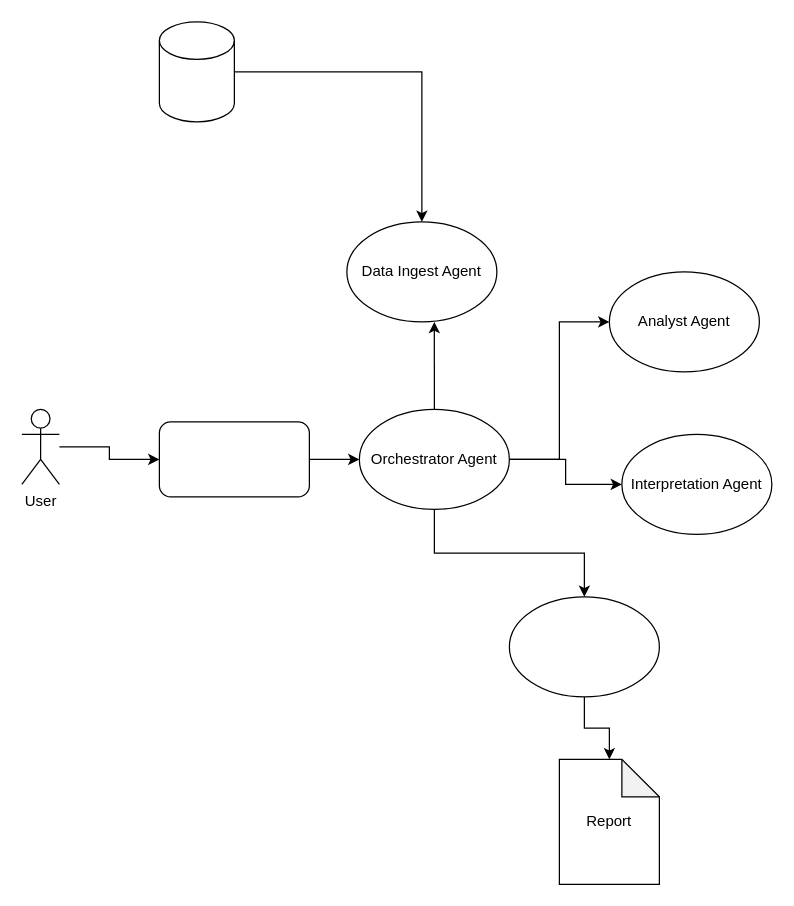
The diagram is 794 pixels wide and 906 high, and some of its shapes have lost their labels. Each missing label, with the centre of its shape:
"Data" belongs at pixel 196 71.
"Report Agent" belongs at pixel 583 646.
"Streamlit UI" belongs at pixel 233 459.
